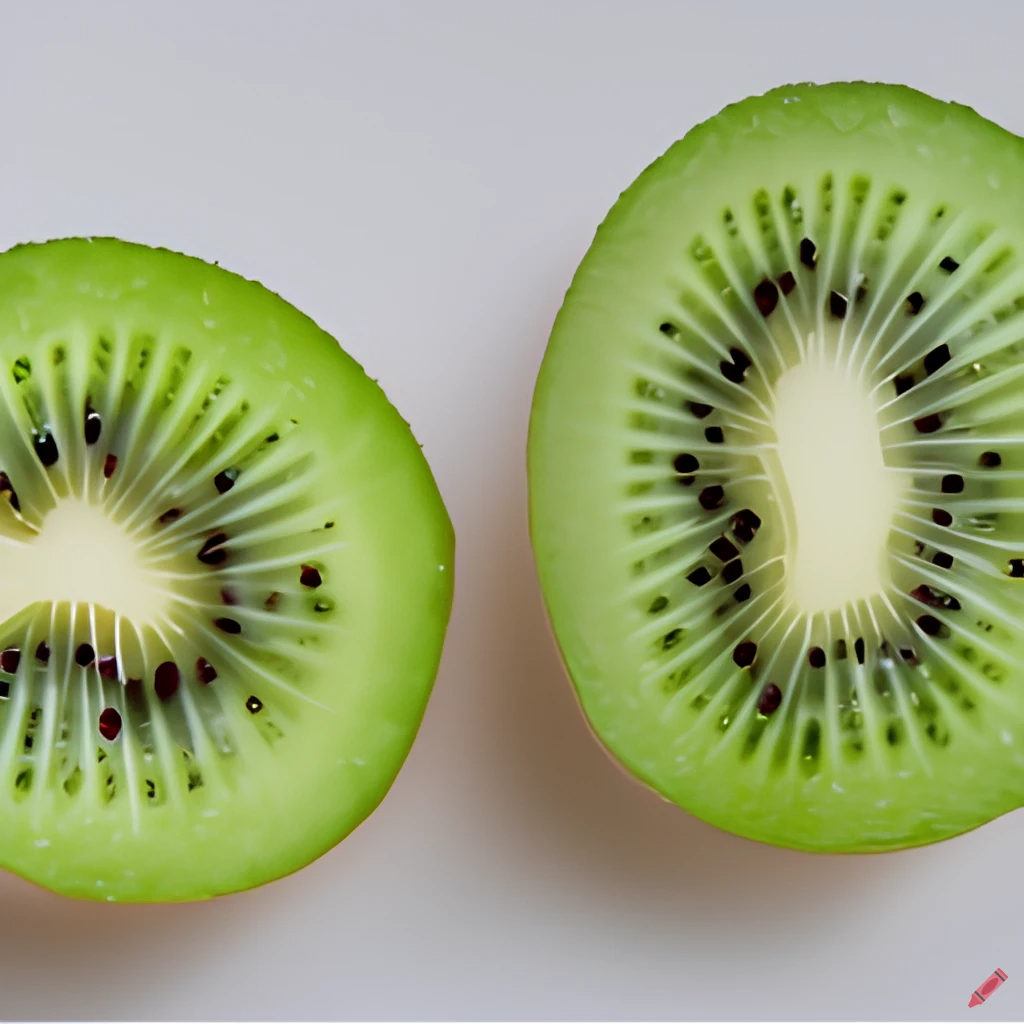Kiwi: (497, 67, 1024, 886)
